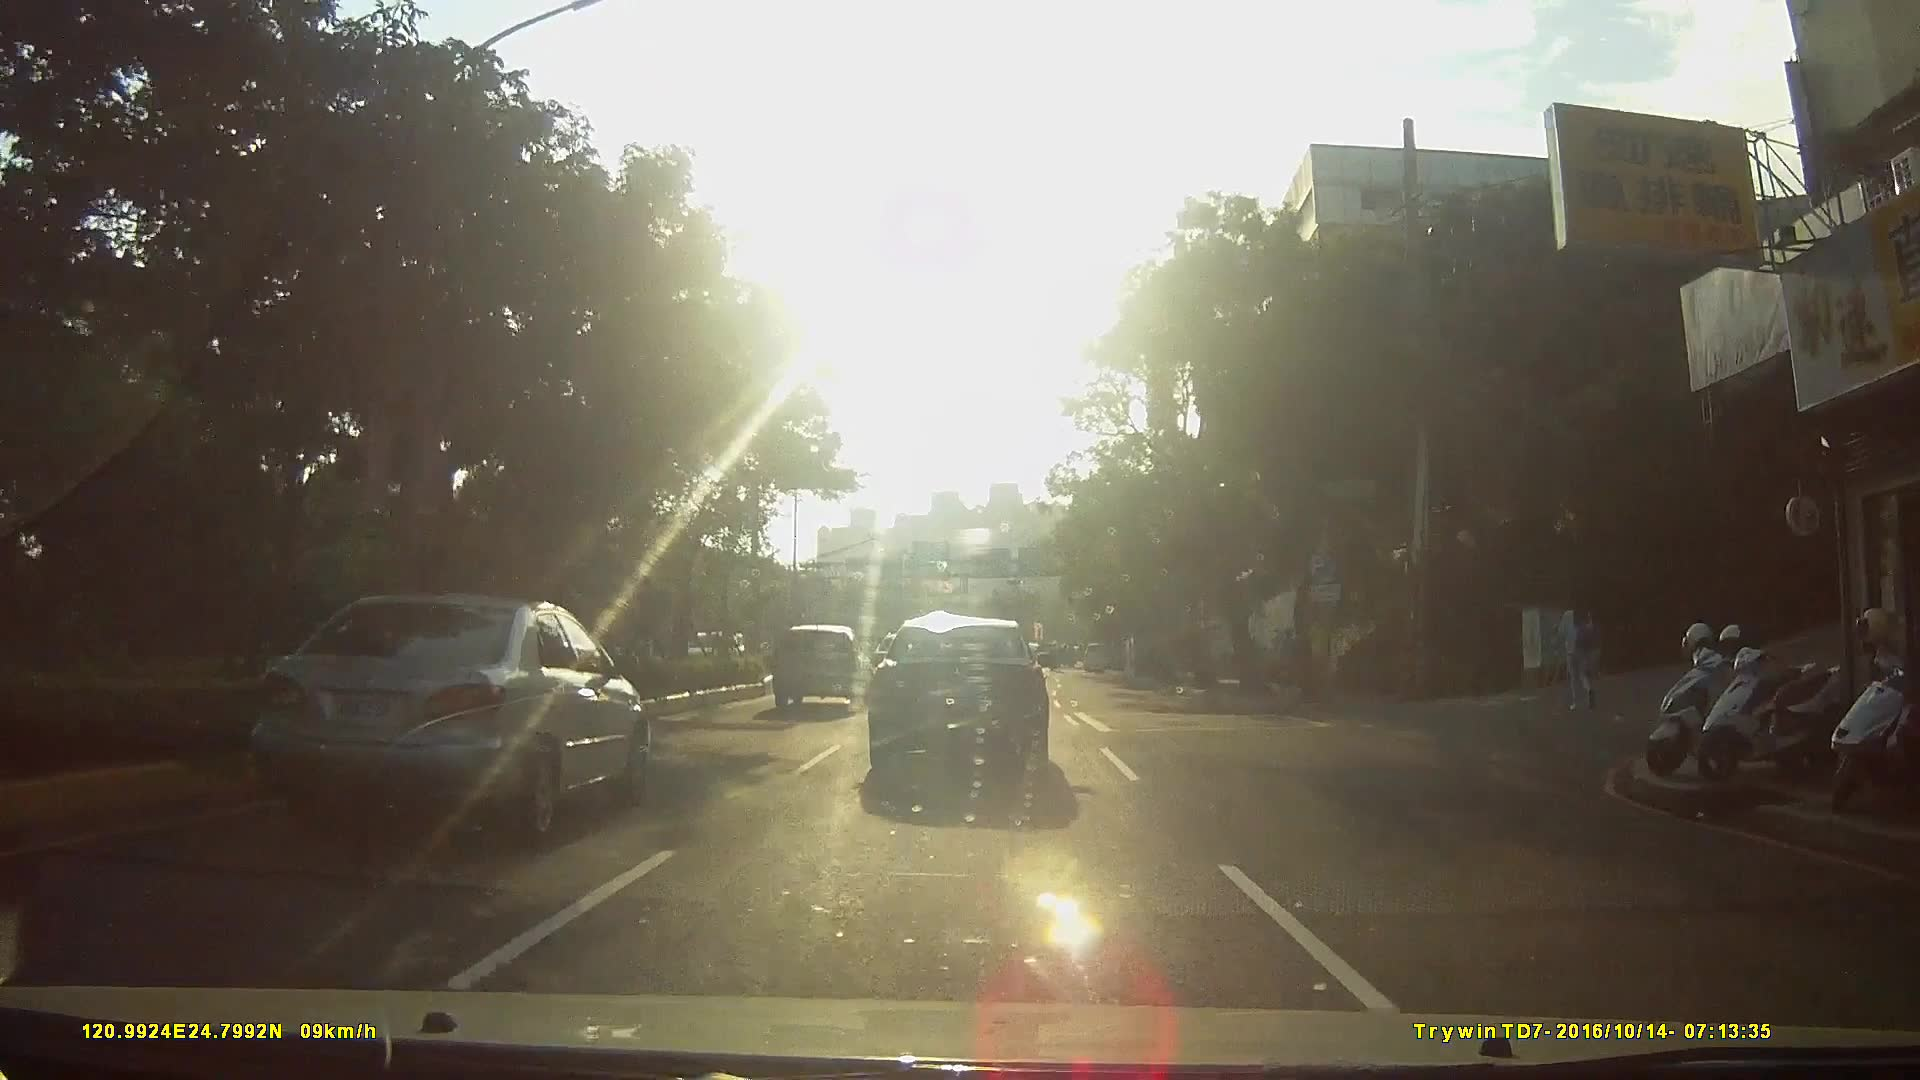pedestrian: (1564, 588, 1614, 706)
vehicle: (236, 589, 655, 842), (871, 614, 1069, 784), (772, 624, 876, 712), (1079, 641, 1112, 674)
